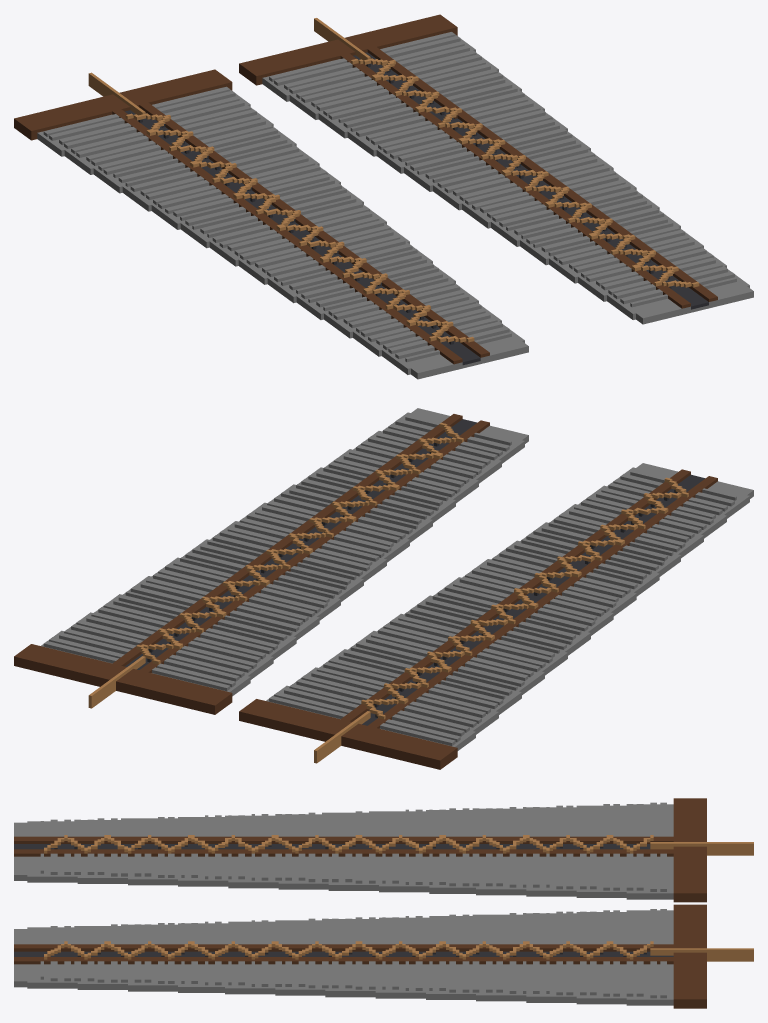
The model's file is lc_chainmail_half_legs.glb.
The picture shows the model from 3 angles, top to bottom: view 1: azimuth 30°, elevation 25°; view 2: azimuth 150°, elevation 25°; view 3: azimuth 270°, elevation 25°; orthographic projection. The views are drawn at different scales.
Visible parts, largest first — view 1: lc_chainmail_half_legs:compound; view 2: lc_chainmail_half_legs:compound; view 3: lc_chainmail_half_legs:compound.
Part boxes in pixels (x1,y1,x2,y2): lc_chainmail_half_legs:compound: [14, 14, 753, 379]; lc_chainmail_half_legs:compound: [14, 408, 753, 769]; lc_chainmail_half_legs:compound: [14, 798, 753, 1008].
Bounding box in the file's own units: 0.568 × 0.016 × 0.884.
